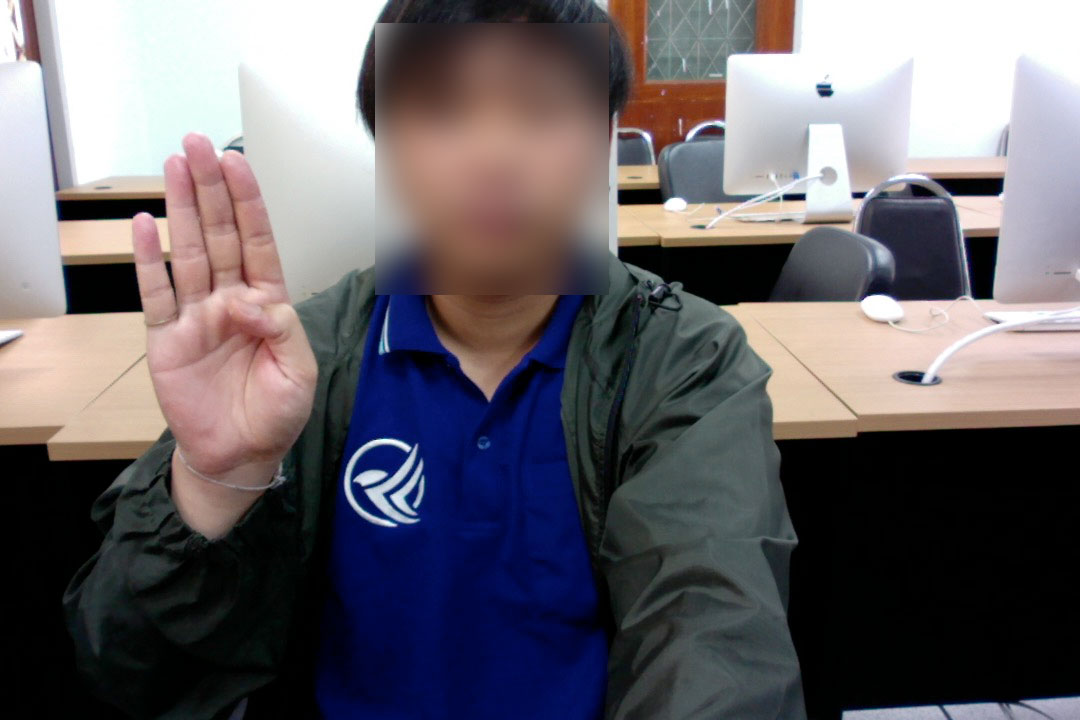bor: (122, 122, 323, 493)
